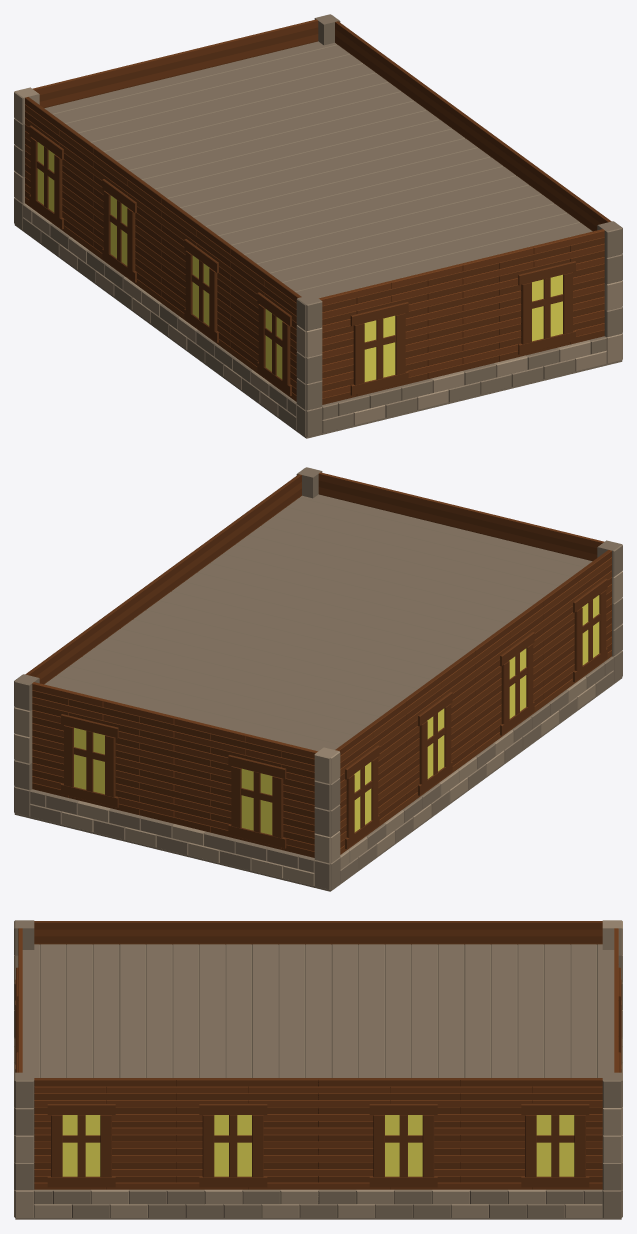
File: PeasantLevel.fbx
The picture shows the model from 3 angles, top to bottom: view 1: azimuth 30°, elevation 25°; view 2: azimuth 150°, elevation 25°; view 3: azimuth 270°, elevation 25°; orthographic projection. The views are drawn at different scales.
Visible parts, largest first — view 1: Cube.496, Cube.502, Cube.498, Cube.503, Cube.504, Cube.507, Cube.508, Cube.510, Cube.512, Cube.500, Cube.509, Cube.511 (+46 smaller); view 2: Cube.506, Cube.512, Cube.496, Cube.498, Cube.500, Cube.504, Cube.505, Cube.510, Cube.494, Cube.497, Cube.499, Cube.501 (+46 smaller); view 3: Cube.503, Cube.505, Cube.495, Cube.497, Cube.498, Cube.500, Cube.502, Cube.504, Cube.506, Cube.508, Cube.510, Cube.511 (+148 smaller).
Boxes of the visible parts, <box> form: Cube.496: <box>283,213,579,291</box>; Cube.502: <box>206,157,503,235</box>; Cube.498: <box>257,194,554,273</box>; Cube.503: <box>193,148,490,226</box>; Cube.504: <box>181,138,477,217</box>; Cube.507: <box>142,110,439,189</box>; Cube.508: <box>130,101,426,179</box>; Cube.510: <box>104,82,401,161</box>; Cube.512: <box>78,63,375,142</box>; Cube.500: <box>232,176,528,254</box>; Cube.509: <box>117,91,413,170</box>; Cube.511: <box>91,73,388,151</box>; Cube.506: <box>133,610,430,688</box>; Cube.512: <box>57,666,353,744</box>; Cube.496: <box>261,516,558,595</box>; Cube.498: <box>235,535,532,614</box>; Cube.500: <box>210,554,506,632</box>; Cube.504: <box>159,591,455,670</box>; Cube.505: <box>146,601,443,679</box>; Cube.510: <box>82,647,379,726</box>; Cube.494: <box>287,498,583,576</box>; Cube.497: <box>248,526,545,604</box>; Cube.499: <box>223,544,519,623</box>; Cube.501: <box>197,563,494,642</box>; Cube.503: <box>278,944,305,1077</box>; Cube.505: <box>331,944,358,1077</box>; Cube.495: <box>66,944,92,1077</box>; Cube.497: <box>119,944,145,1077</box>; Cube.498: <box>146,944,172,1077</box>; Cube.500: <box>199,944,225,1077</box>; Cube.502: <box>252,944,278,1077</box>; Cube.504: <box>305,944,331,1077</box>; Cube.506: <box>358,944,384,1077</box>; Cube.508: <box>411,944,437,1077</box>; Cube.510: <box>464,944,490,1077</box>; Cube.511: <box>491,944,517,1077</box>.
Bounding box in the file's own units: 1009 × 405 × 1606.
